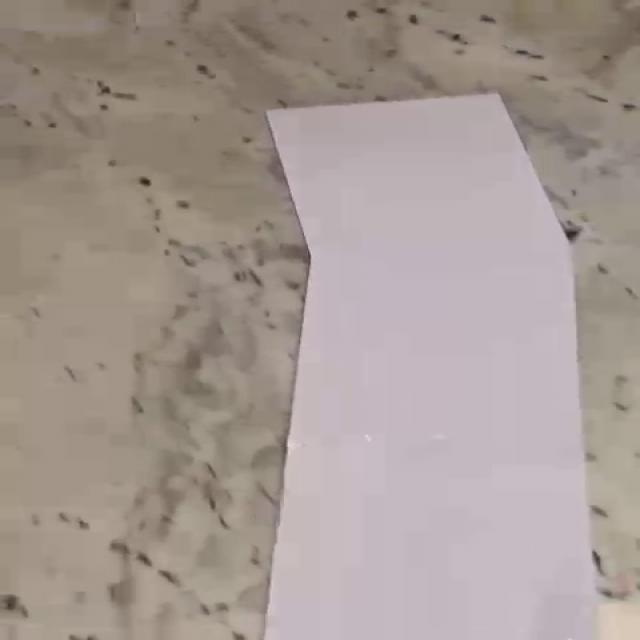road: (261, 92, 597, 640)
